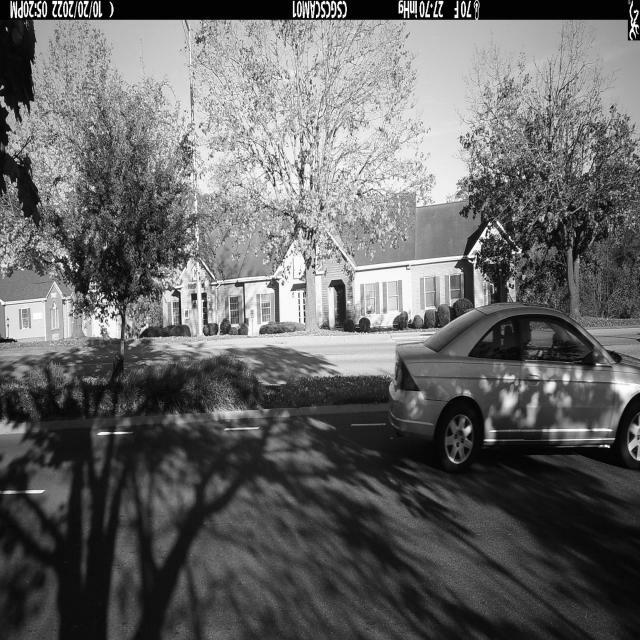Sedan: (387, 303, 640, 471)
